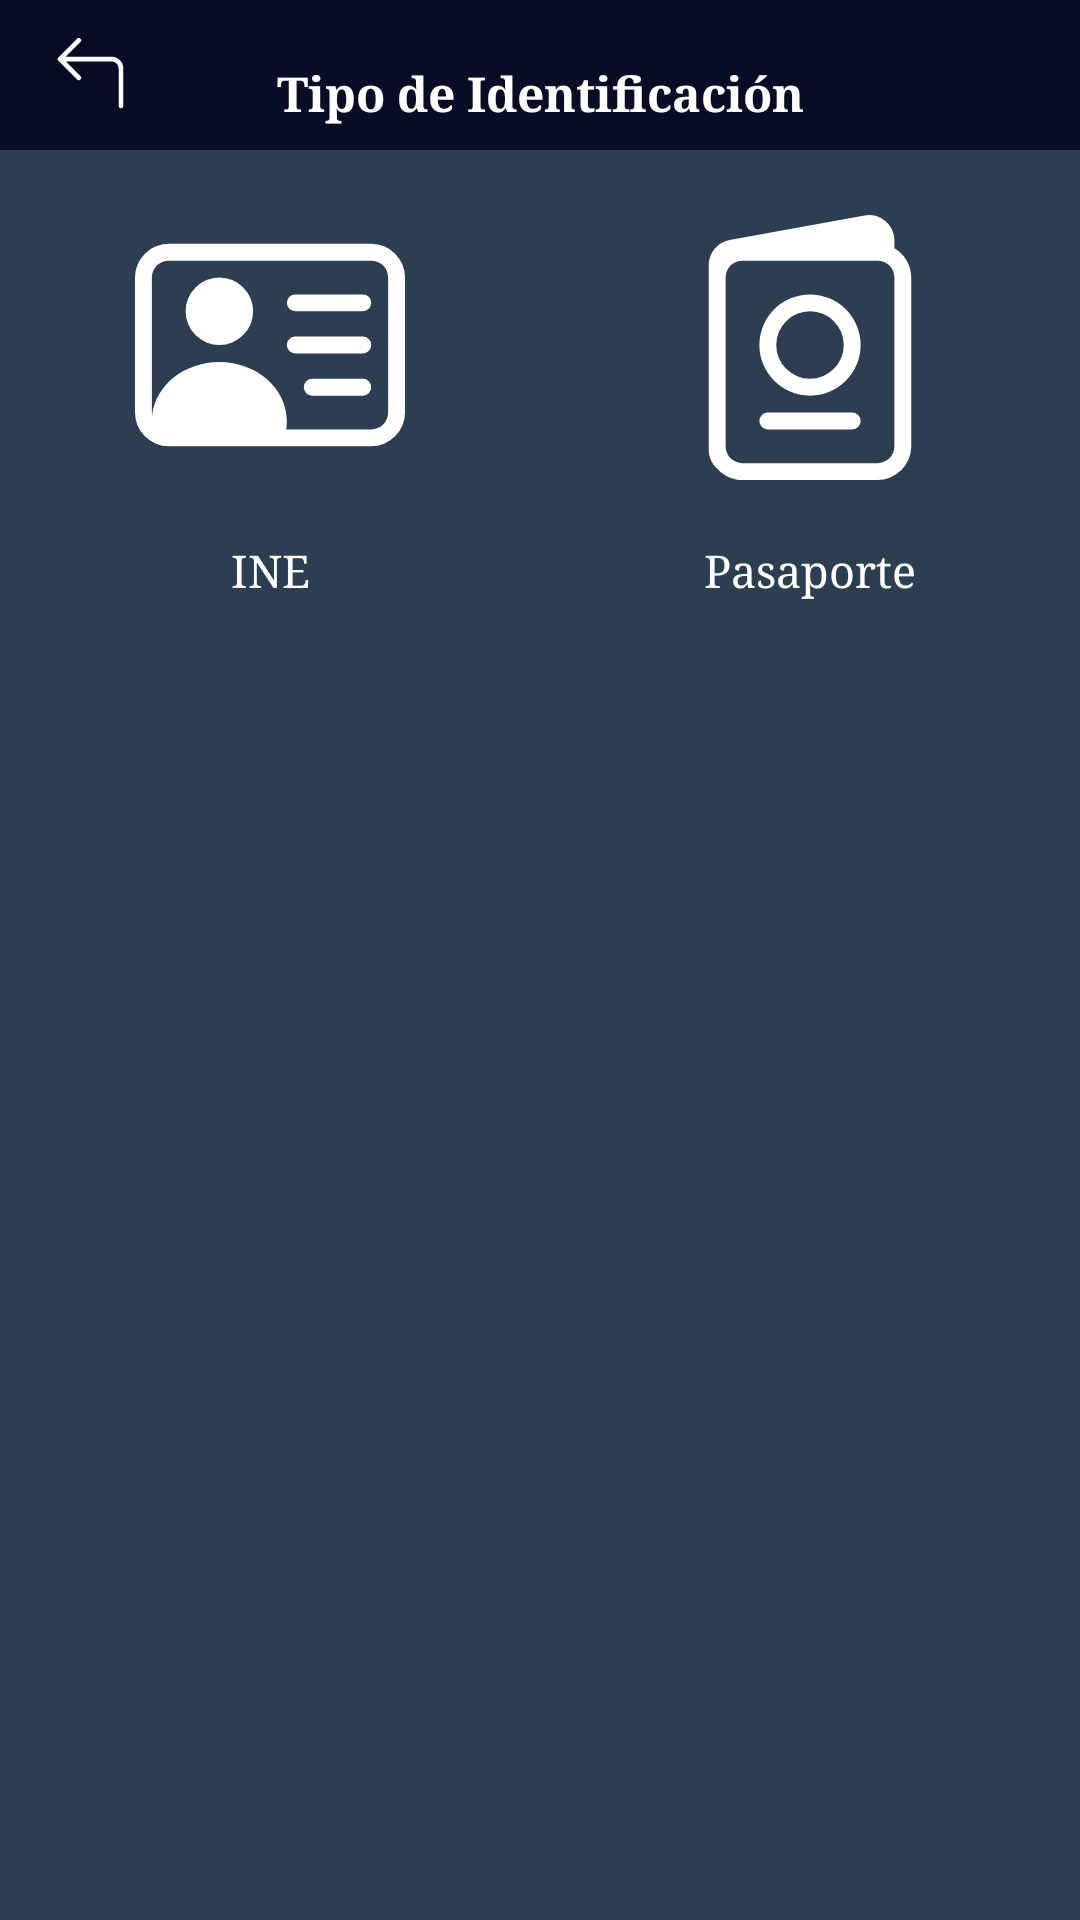

Point at icon controls on the screen. Image size 1080w x 1920h, points as point (x, y).
regresar firma: point (90, 73)
